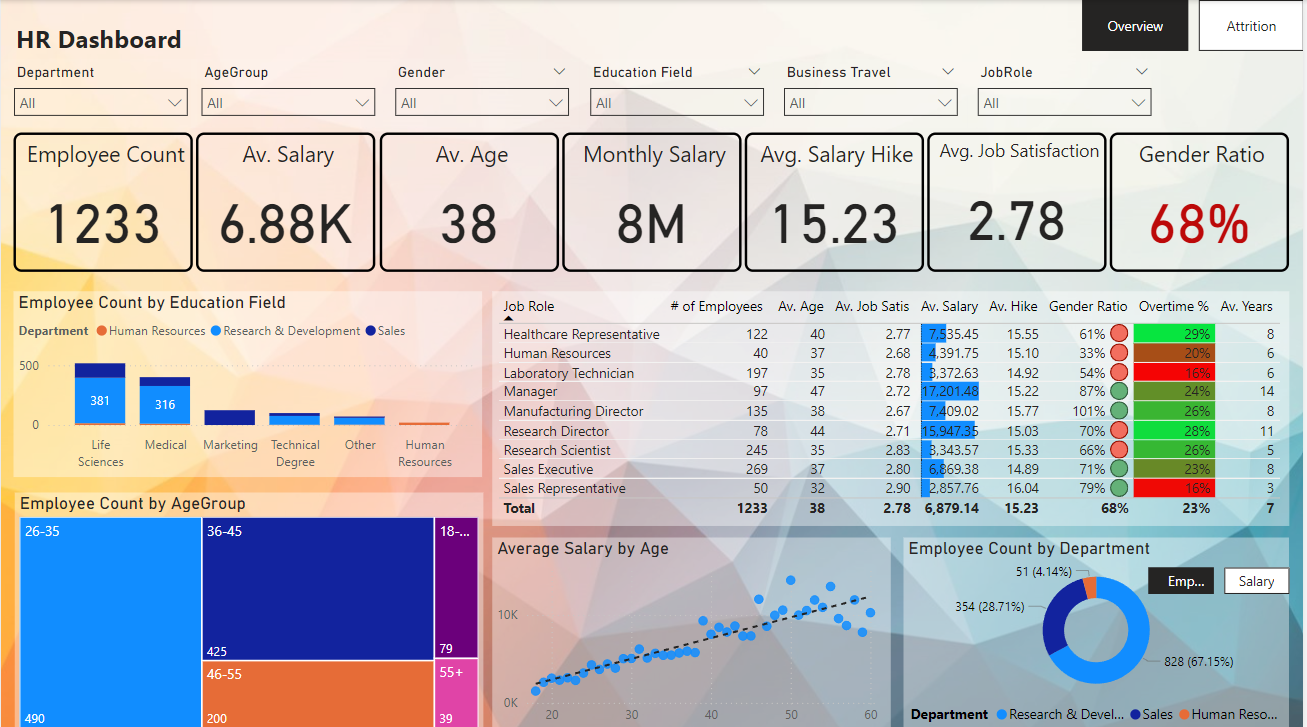

Layout of this report page (visuals, bound fields, positions):
{"tool":"powerbi","page":{"name":"Overview","canvas":[1280,720],"ordinal":0},"visuals":[{"type":"slicer","fields":{"Values":["Department.Department"]},"box":[2,58,190.4,67.8],"z":0},{"type":"slicer","fields":{"Values":["HR_Analytics.AgeGroup"]},"box":[186.7,58,190.4,67.8],"z":1000},{"type":"slicer","fields":{"Values":["HR_Analytics.JobRole"]},"box":[948.5,58,190.4,67.8],"z":2000},{"type":"slicer","fields":{"Values":["HR_Analytics.Gender"]},"box":[377.1,58,190.4,67.8],"z":3000},{"type":"slicer","fields":{"Values":["HR_Analytics.BusinessTravel"]},"box":[758,58,190.4,67.8],"z":4000},{"type":"slicer","fields":{"Values":["HR_Analytics.EducationField"]},"box":[567.6,58,190.4,67.8],"z":5000},{"type":"textbox","box":[10.1,17.3,190.4,44.7],"z":6000},{"type":"card","title":"Employee Count","fields":{"Values":["HR_Analytics.Employee Count"]},"box":[12.4,129.6,176,137.1],"z":7000},{"type":"card","title":"Av. Salary","fields":{"Values":["HR_Analytics.Average Salary"]},"box":[191.8,129.6,176,137.1],"z":8000},{"type":"card","title":"Av. Age","fields":{"Values":["HR_Analytics.Average Age"]},"box":[371.2,129.6,176,137.1],"z":9000},{"type":"card","title":"Monthly Salary","fields":{"Values":["HR_Analytics.Monthly Salary"]},"box":[550.6,129.6,176,137.1],"z":10000},{"type":"card","title":"Avg. Salary Hike","fields":{"Values":["HR_Analytics.Average Salary Hike"]},"box":[729.9,129.6,176,137.1],"z":11000},{"type":"card","title":"Avg. Job Satisfaction","fields":{"Values":["Avg(HR_Analytics.JobSatisfaction)"]},"box":[909.3,129.6,176,137.1],"z":12000},{"type":"card","title":"Gender Ratio","fields":{"Values":["HR_Analytics.Gender Ratio"]},"box":[1088.7,129.6,176,137.1],"z":13000},{"type":"columnChart","title":"Employee Count by Education Field ","fields":{"Category":["HR_Analytics.EducationField"],"Y":["HR_Analytics.Employee Count"],"Series":["HR_Analytics.Department"]},"box":[12.5,286.2,460,182.5],"z":14000},{"type":"treemap","fields":{"Values":["HR_Analytics.Employee Count"],"Group":["HR_Analytics.AgeGroup"]},"box":[13,483.3,460.2,236.6],"z":15000},{"type":"donutChart","fields":{"Y":["HR_Analytics.Employee Count"],"Category":["HR_Analytics.Department"]},"box":[886.2,527.5,378.8,192.5],"z":16000},{"type":"tableEx","fields":{"Values":["HR_Analytics.JobRole","HR_Analytics.Employee Count","HR_Analytics.Average Age","HR_Analytics.Average Job Satisfaction","HR_Analytics.Average Salary","HR_Analytics.Average Salary Hike","HR_Analytics.Gender Ratio","Department.Overtime %","HR_Analytics.Average Years"]},"box":[482.5,286.2,782.5,230],"z":17000},{"type":"scatterChart","fields":{"X":["HR_Analytics.Age"],"Y":["HR_Analytics.Average Salary"]},"box":[482.5,527.5,391.2,192.5],"z":18000},{"type":"pageNavigator","box":[1061.2,0,218.8,50],"z":18001},{"type":"bookmarkNavigator","box":[1126.2,557.5,138.8,26.2],"z":18003}]}

Visuals, with their boxes in screenshot pixels (x1, y1, x2, y2), scaled from the page's 1280x720 canvas onto the 1307x727 screenshot:
slicer - Department.Department: [2, 59, 196, 127]
slicer - HR_Analytics.AgeGroup: [191, 59, 385, 127]
slicer - HR_Analytics.JobRole: [969, 59, 1163, 127]
slicer - HR_Analytics.Gender: [385, 59, 579, 127]
slicer - HR_Analytics.BusinessTravel: [774, 59, 968, 127]
slicer - HR_Analytics.EducationField: [580, 59, 774, 127]
textbox: [10, 17, 205, 63]
"Employee Count" card: [13, 131, 192, 269]
"Av. Salary" card: [196, 131, 376, 269]
"Av. Age" card: [379, 131, 559, 269]
"Monthly Salary" card: [562, 131, 742, 269]
"Avg. Salary Hike" card: [745, 131, 925, 269]
"Avg. Job Satisfaction" card: [928, 131, 1108, 269]
"Gender Ratio" card: [1112, 131, 1291, 269]
"Employee Count by Education Field " columnChart: [13, 289, 482, 473]
treemap - HR_Analytics.Employee Count x HR_Analytics.AgeGroup: [13, 488, 483, 726]
donutChart - HR_Analytics.Employee Count x HR_Analytics.Department: [905, 533, 1292, 726]
tableEx - HR_Analytics.JobRole x HR_Analytics.Employee Count: [493, 289, 1292, 521]
scatterChart - HR_Analytics.Age x HR_Analytics.Average Salary: [493, 533, 892, 726]
pageNavigator: [1084, 0, 1306, 50]
bookmarkNavigator: [1150, 563, 1292, 589]
